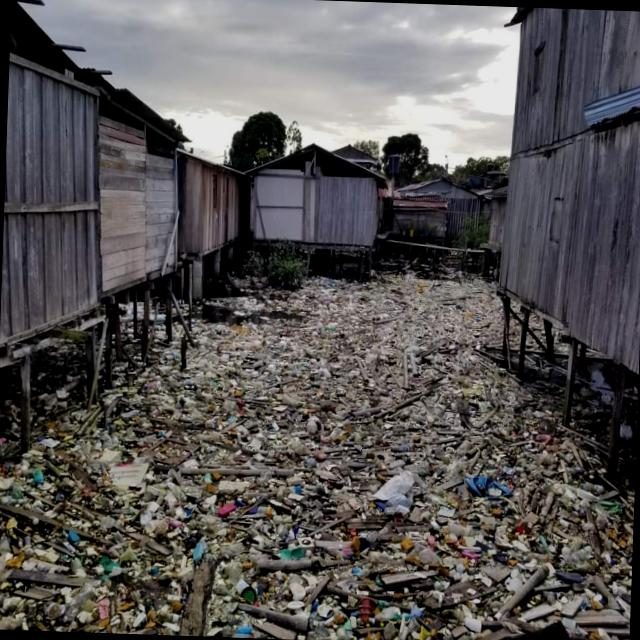garbage: (26, 257, 490, 640)
